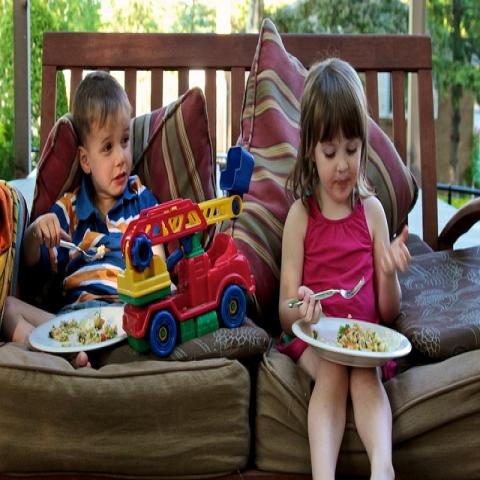truck: (119, 148, 256, 356)
